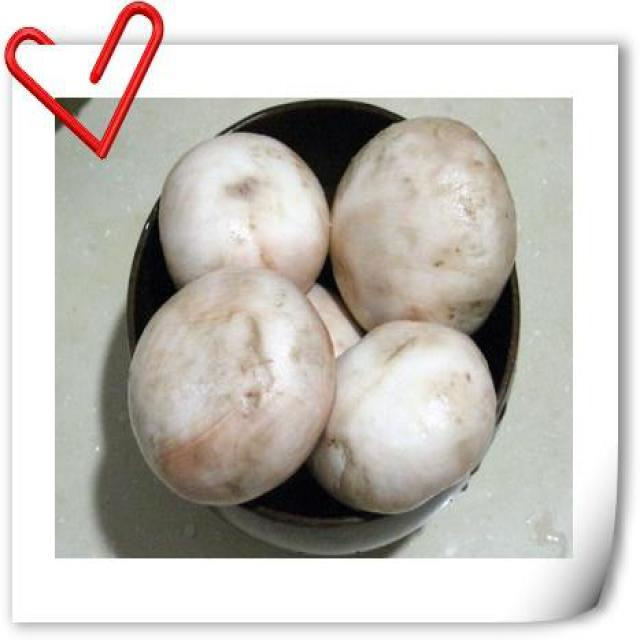Agaricus bisporus: (131, 267, 335, 507), (328, 120, 518, 330), (301, 323, 497, 517), (159, 128, 331, 295)
